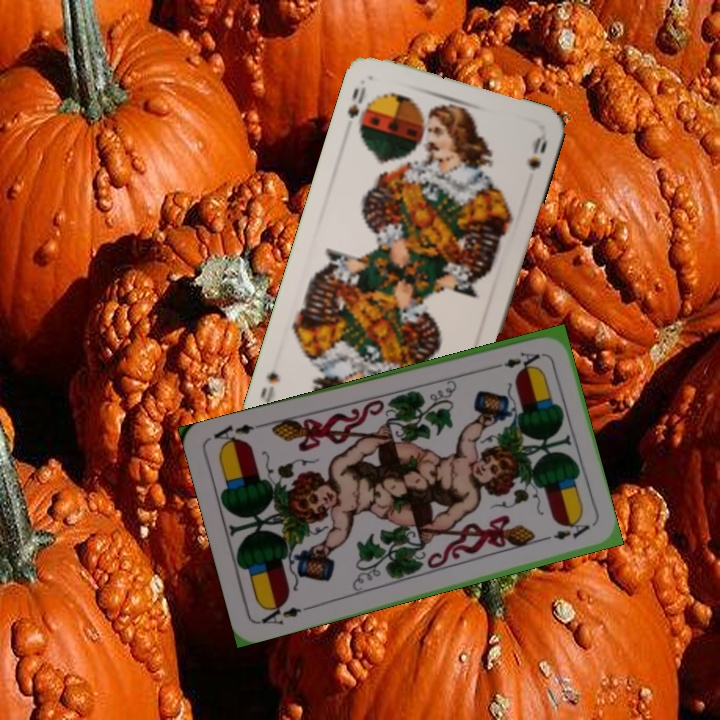EA: (487, 347, 546, 372), (257, 598, 304, 628)
SO: (343, 83, 369, 121)
